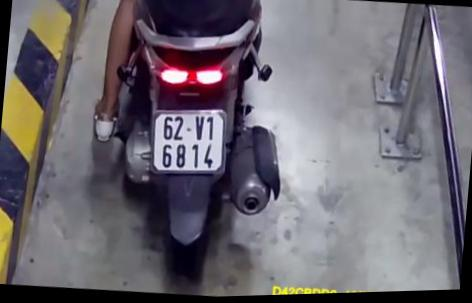LP: (148, 105, 232, 178)
